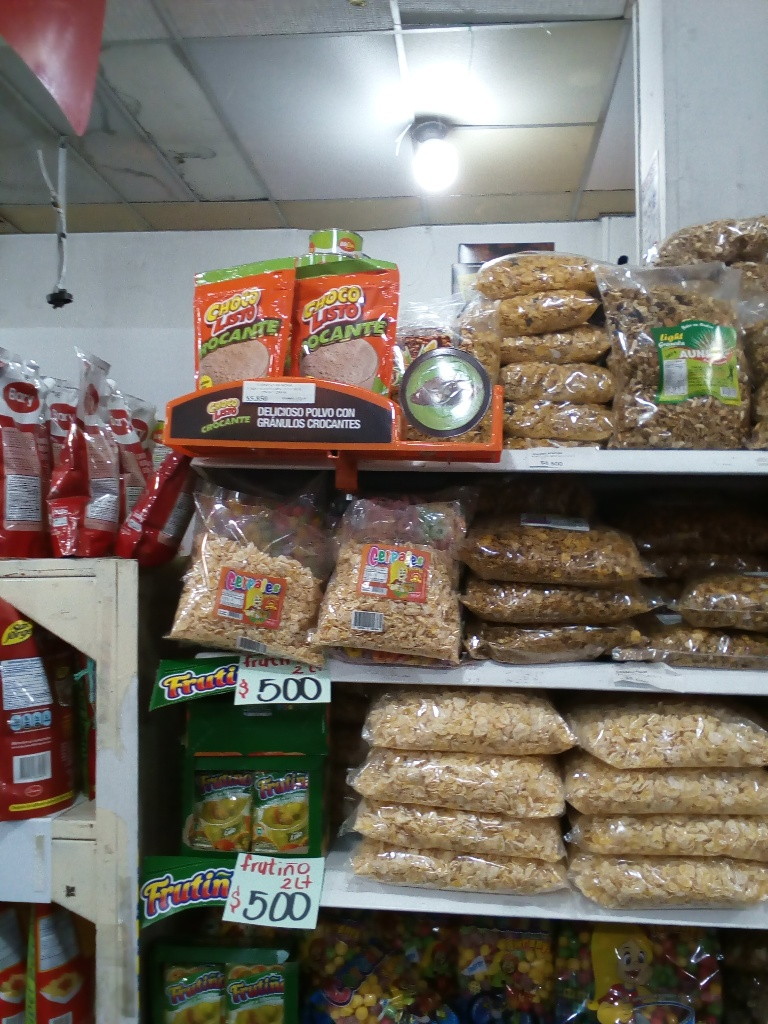COL0170102DYP10000: (193, 268, 292, 378)
